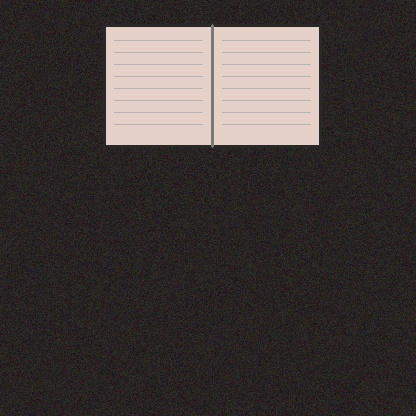book: (104, 25, 320, 146)
